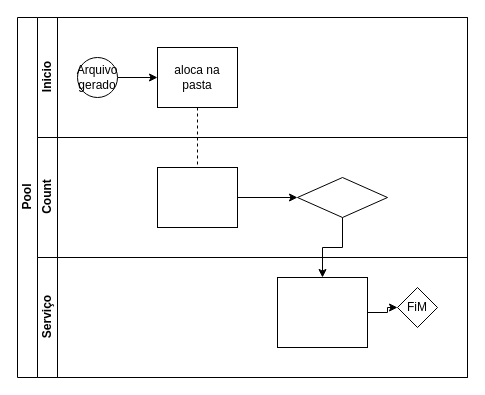
The diagram is 485 pixels wide and 395 high, and some of its shapes have lost their labels. The shapes that lost their labels are listed below. From the top down, each one's centre as x and y in pixels, then its label:
the point at 197,197: Notificação de novo arquivo
the point at 342,197: Count + 1
the point at 322,312: Notificação envia para serviço de armazenamento
